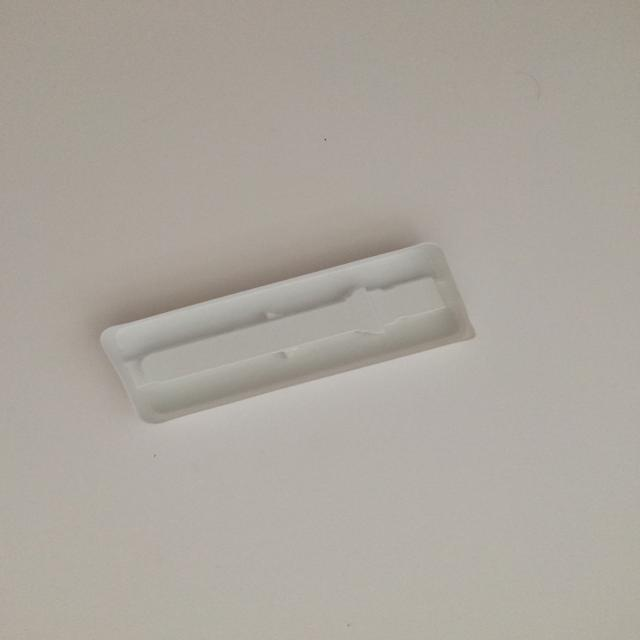plastic: (99, 241, 476, 424)
